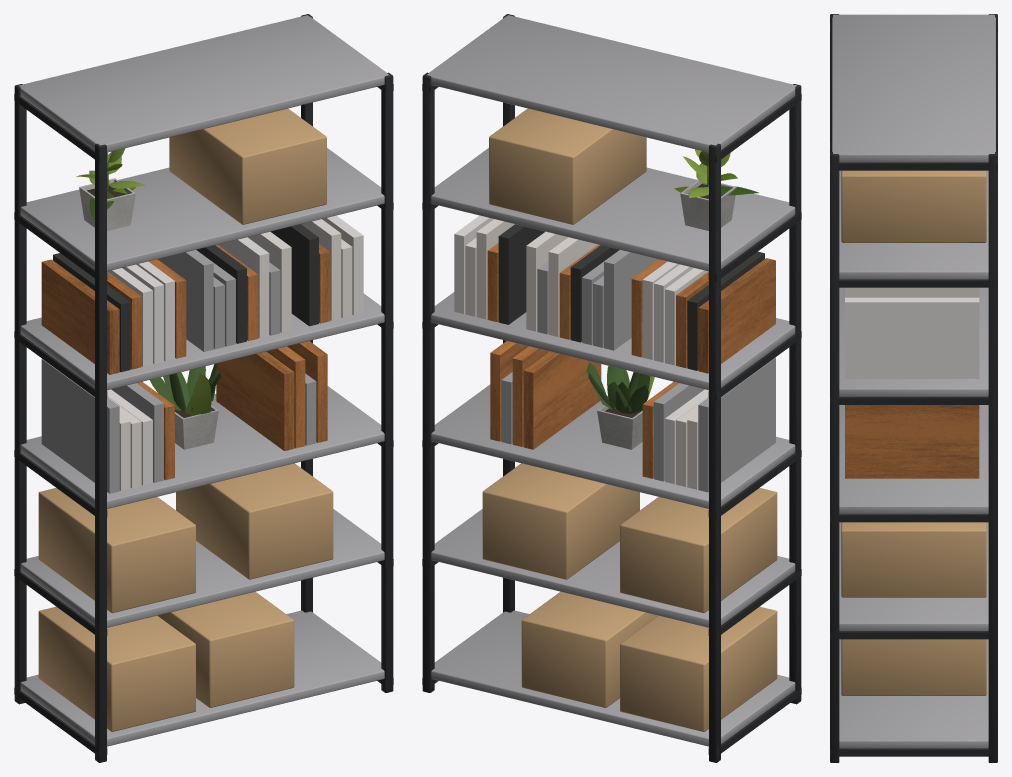
Rendered from storage.utility-shelf-metal.glb.
The picture shows the model from 3 angles, left to right: view 1: azimuth 30°, elevation 25°; view 2: azimuth 150°, elevation 25°; view 3: azimuth 270°, elevation 25°; orthographic projection.
Visible parts, largest first — view 1: storage.utility-shelf-metal.001; view 2: storage.utility-shelf-metal.001; view 3: storage.utility-shelf-metal.001.
Boxes of the visible parts, x1=… form: storage.utility-shelf-metal.001: x1=14, y1=14, x2=393, y2=762; storage.utility-shelf-metal.001: x1=422, y1=14, x2=801, y2=762; storage.utility-shelf-metal.001: x1=830, y1=14, x2=997, y2=762.
Bounding box in the file's own units: 0.9 × 1.8 × 0.45.
14 materials, 2 textured.
